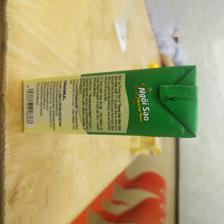NSPN_Hop: (19, 66, 200, 144)
